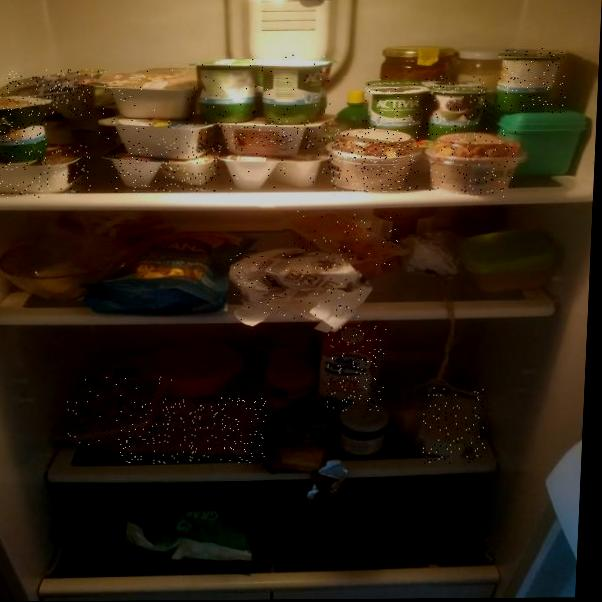bacon: (281, 210, 402, 275)
cheese: (228, 246, 365, 321), (421, 387, 489, 464)
ham: (118, 397, 268, 464)
milk: (324, 325, 387, 412)
tomatoes: (62, 377, 173, 447)
yoghurt: (197, 54, 334, 127), (361, 74, 490, 135), (323, 128, 420, 193), (430, 129, 519, 198), (111, 142, 223, 192), (91, 70, 207, 118), (0, 143, 93, 198), (497, 48, 568, 113), (97, 119, 211, 159), (214, 121, 333, 158), (6, 69, 97, 116), (222, 149, 327, 189), (0, 89, 48, 164)
